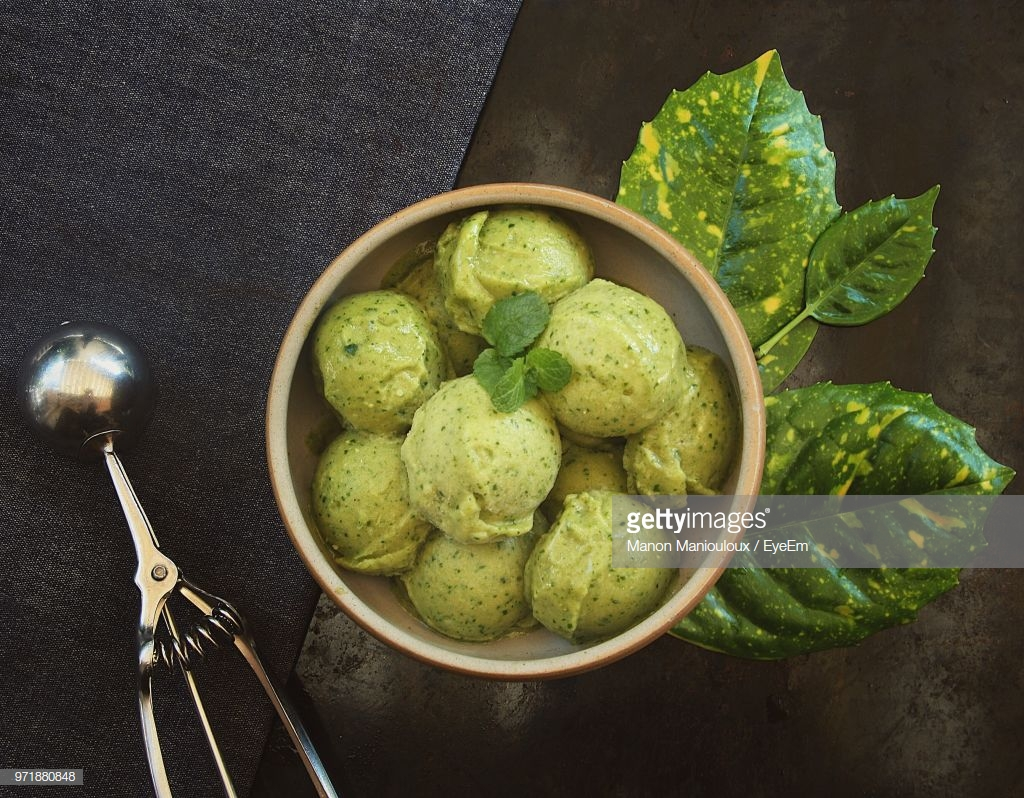ice-cream: (407, 376, 561, 541), (541, 281, 689, 434), (526, 494, 670, 643), (439, 212, 598, 341), (312, 294, 440, 430), (311, 431, 429, 572), (633, 350, 737, 508), (404, 528, 530, 644)
